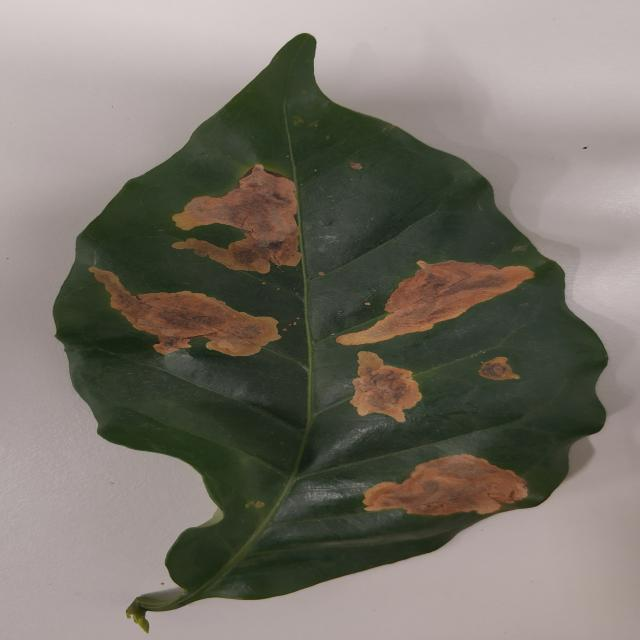Plaga-Minador: (52, 34, 610, 633)
